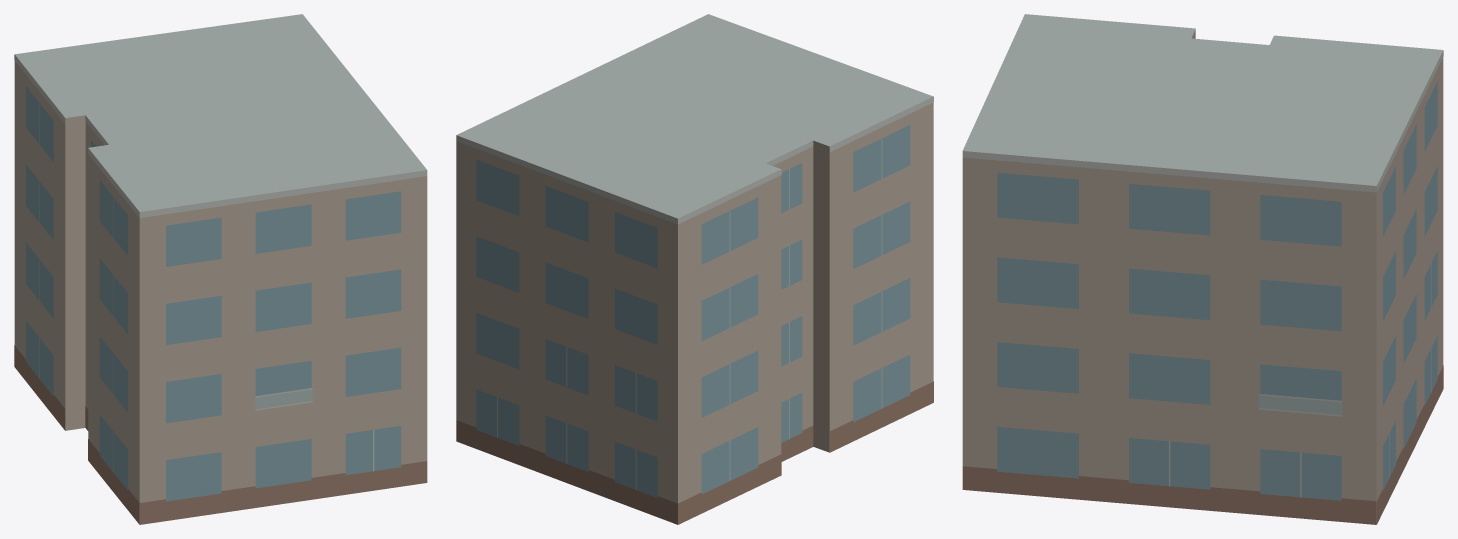
File: survey-upis-32679277.glb
3 renders of one model, left to right at view 1: azimuth 30°, elevation 25°; view 2: azimuth 150°, elevation 25°; view 3: azimuth 270°, elevation 25°, orthographic. The views are drawn at different scales.
Visible parts, largest first — view 1: survey-upis-32679277.tmp; view 2: survey-upis-32679277.tmp; view 3: survey-upis-32679277.tmp.
Boxes of the visible parts, x1,y1,x2,y2 form: survey-upis-32679277.tmp: [14, 14, 427, 524]; survey-upis-32679277.tmp: [456, 14, 933, 524]; survey-upis-32679277.tmp: [962, 14, 1443, 524].
Bounding box in the file's own units: 13.95 × 12.81 × 16.49.
